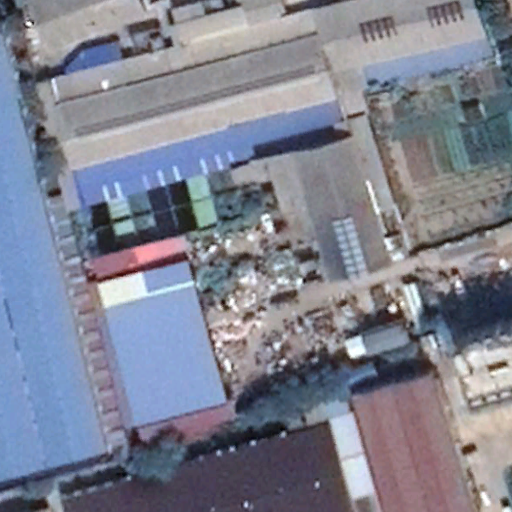msw: (193, 224, 412, 392)
